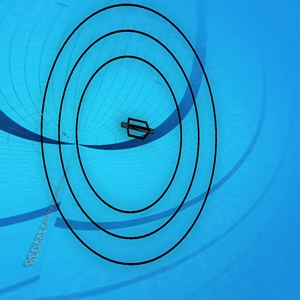circle: (38, 2, 214, 277)
submarine: (121, 118, 155, 141)
